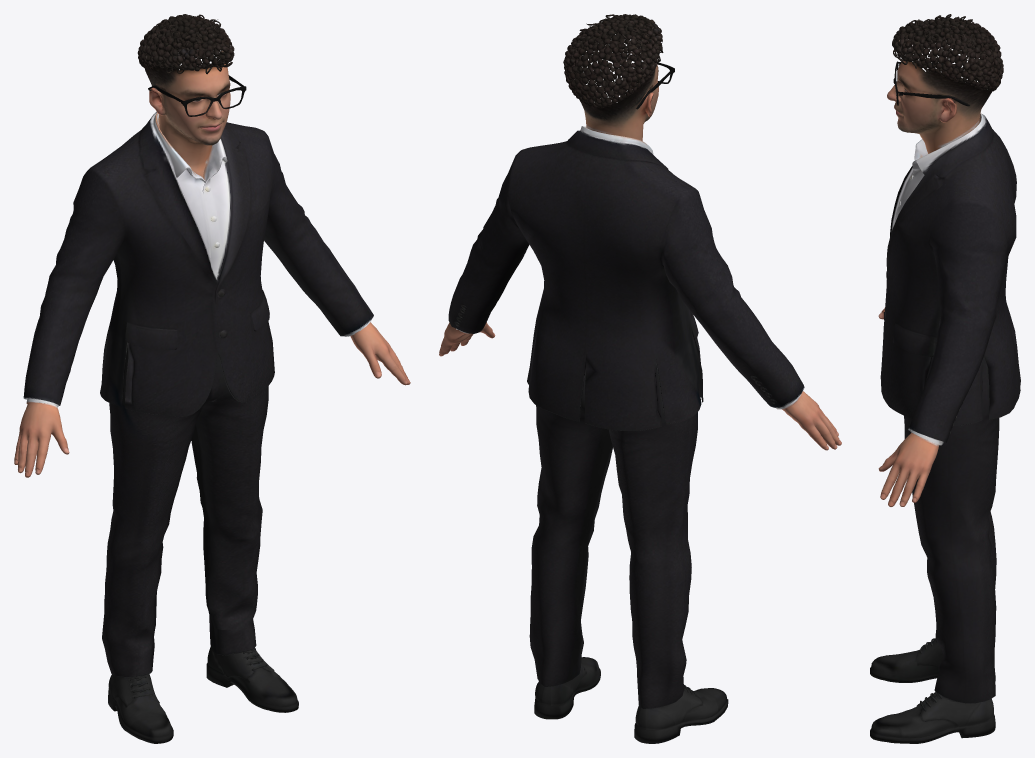
File: avatar.glb
3 renders of one model, left to right at view 1: azimuth 30°, elevation 25°; view 2: azimuth 150°, elevation 25°; view 3: azimuth 270°, elevation 25°, orthographic.
Visible parts, largest first — view 1: tripo_63a496c2_d829_4602_9906_6dc4f877e294; view 2: tripo_63a496c2_d829_4602_9906_6dc4f877e294; view 3: tripo_63a496c2_d829_4602_9906_6dc4f877e294.
Part boxes in pixels (x1,y1,x2,y2): tripo_63a496c2_d829_4602_9906_6dc4f877e294: (14, 14, 410, 743); tripo_63a496c2_d829_4602_9906_6dc4f877e294: (439, 14, 841, 743); tripo_63a496c2_d829_4602_9906_6dc4f877e294: (870, 14, 1020, 743).
Size of the model in its own units: 0.5952 by 0.9995 by 0.1997.
1 material, 1 textured.
